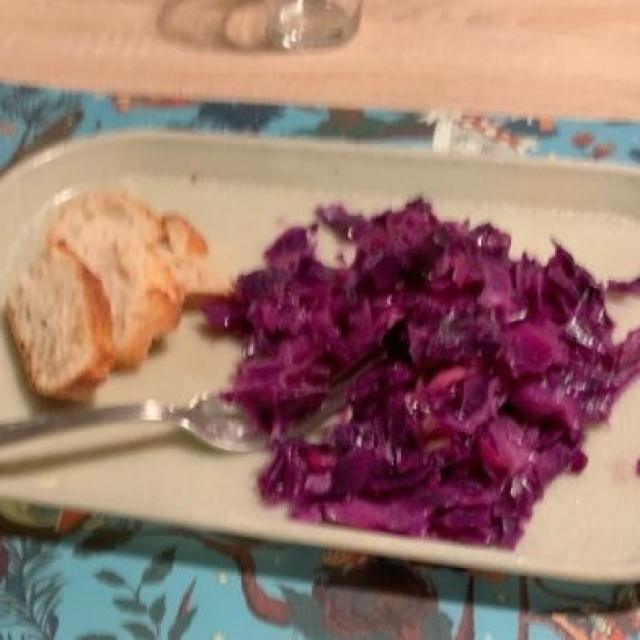bread: (23, 187, 198, 391)
cabbage: (233, 203, 620, 537)
